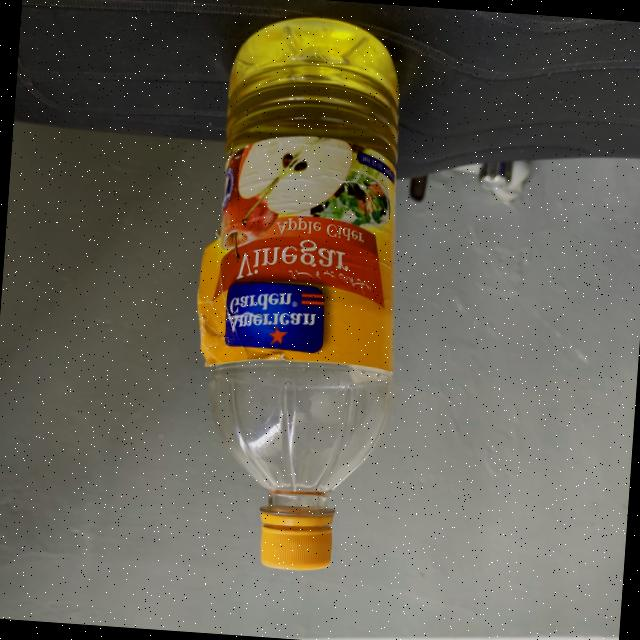bottle: (190, 8, 415, 574)
cap: (255, 500, 336, 568)
label: (205, 128, 404, 370)
